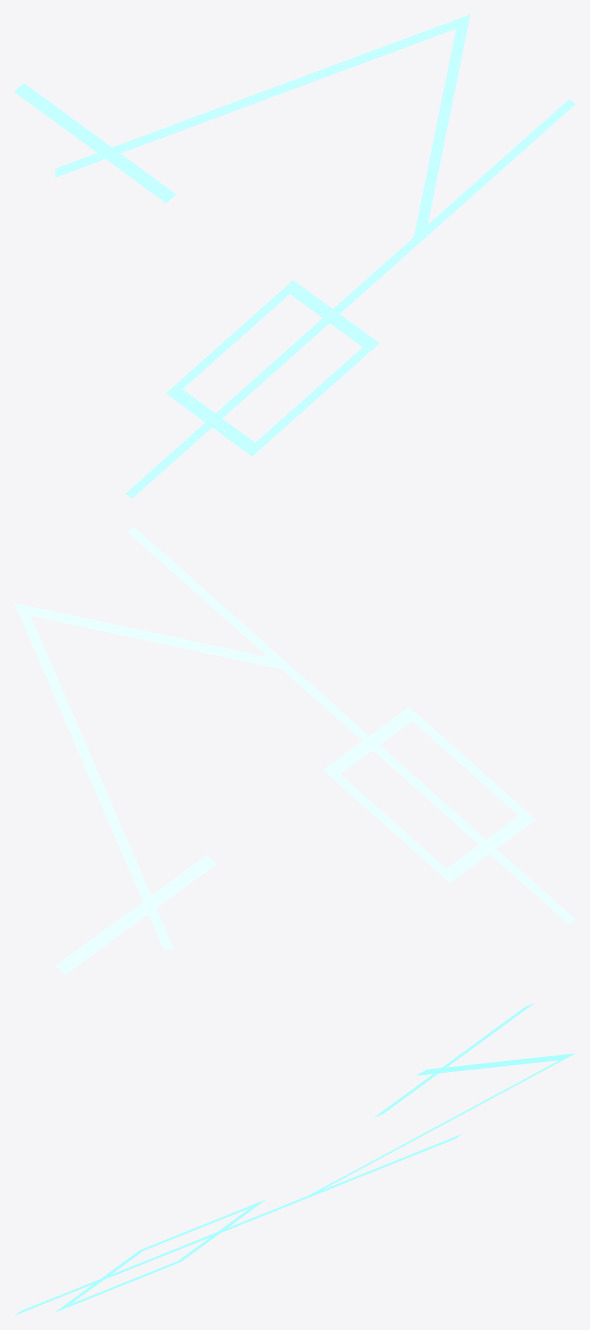
Rendered from Rune_Glow_7.fbx.
3 views of the same model, one above another, from view 1: azimuth 30°, elevation 25°; view 2: azimuth 150°, elevation 25°; view 3: azimuth 330°, elevation 25° (orthographic).
Parts seen in each view (by area): view 1: Rune7; view 2: Rune7; view 3: Rune7.
Boxes of the visible parts, box(x1,y1,x2,y2) form: Rune7: box(14, 14, 575, 498); Rune7: box(14, 527, 575, 974); Rune7: box(14, 1003, 575, 1315).
Size of the model in its own units: 0.5603 by 0.3453 by 0.7645.
